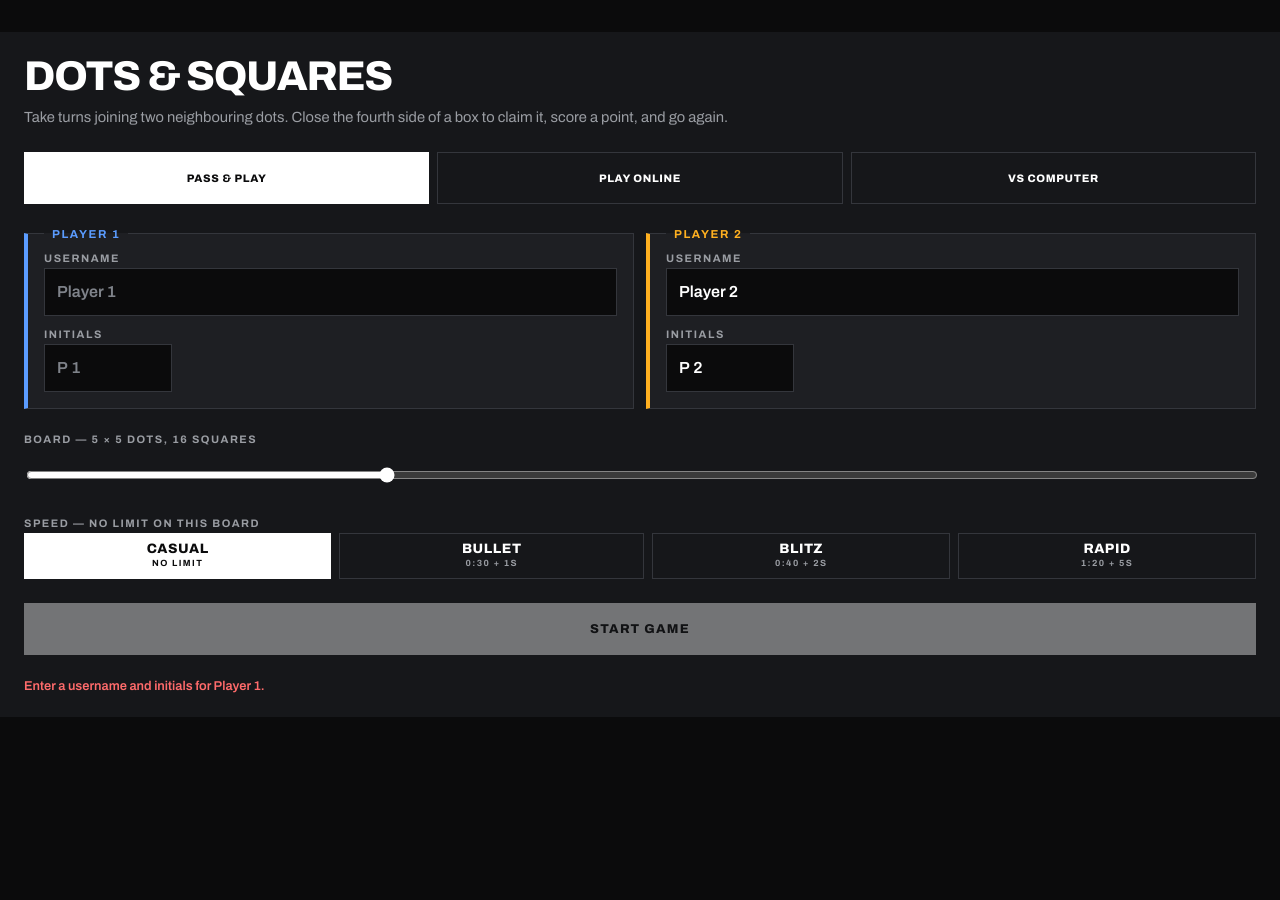
Test: BUG-003 — two players, one set of initials › still allows matching initials against the computer, who shares no screen
Click the button "vs Computer".
click(1053, 178)  # box top-left (851, 152), bottom-right (1256, 204)
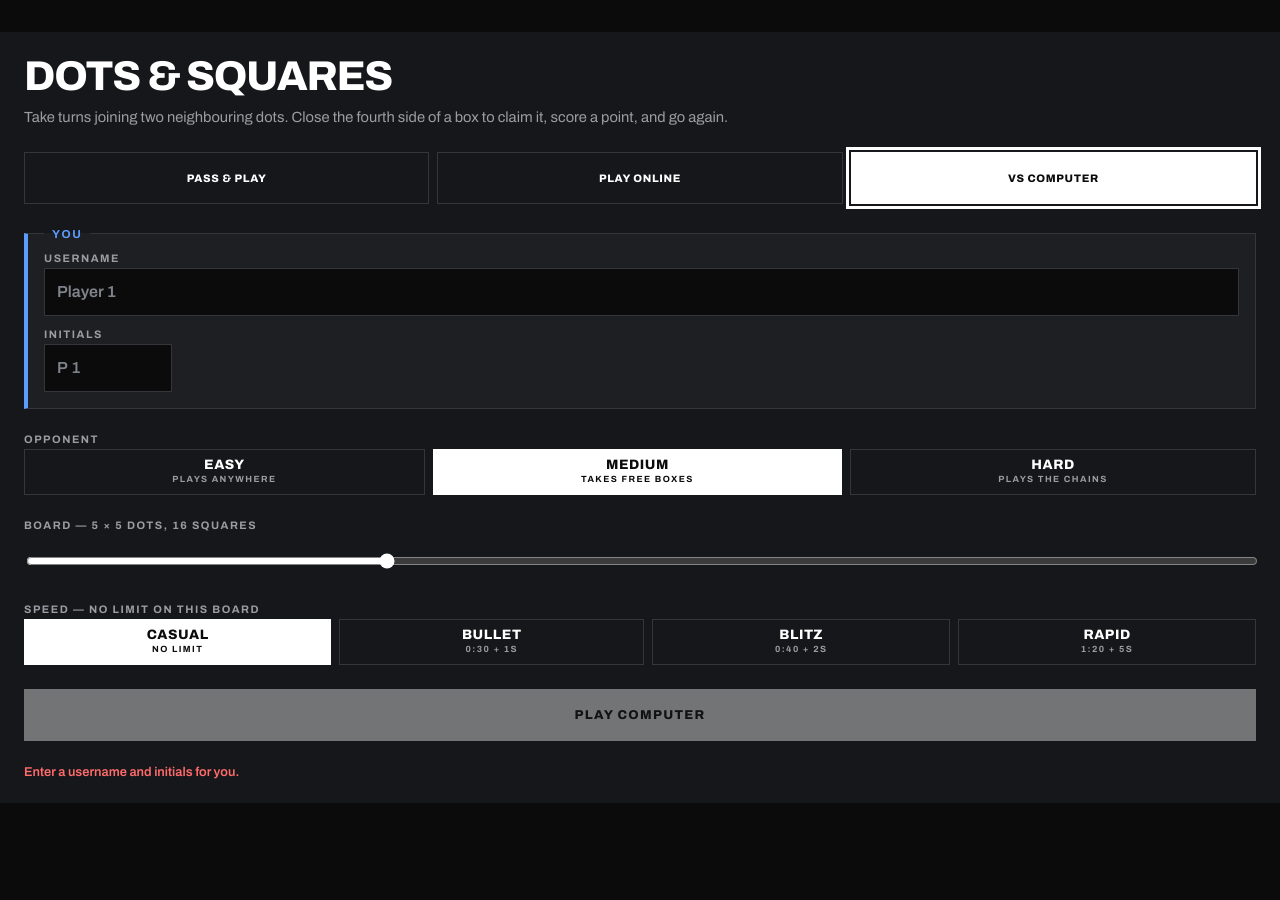
Type "Firas" into the field labelled "Username".
click(642, 292); type("Firas")  # box top-left (44, 268), bottom-right (1239, 316)
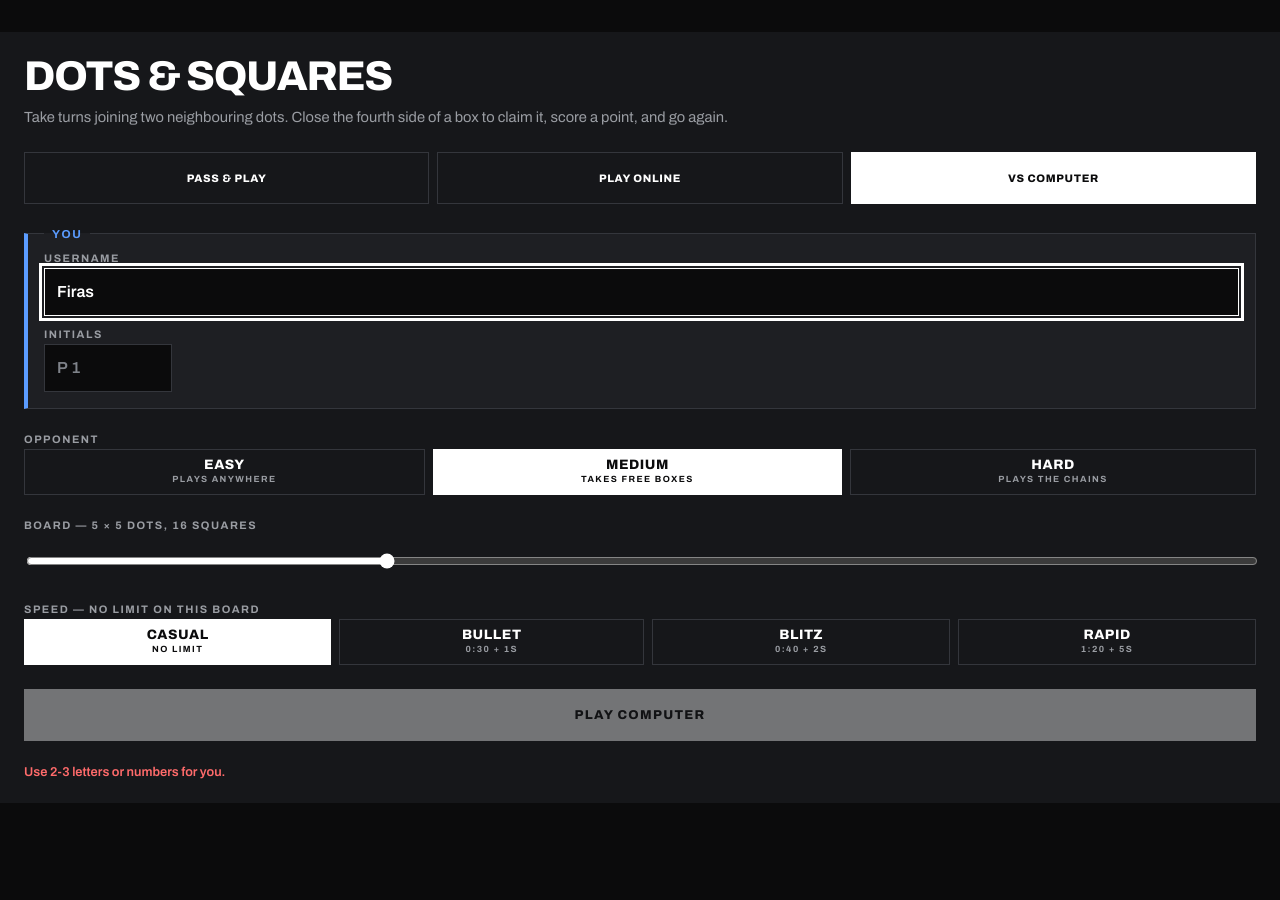
Type "CPU" into the field labelled "Initials".
click(108, 368); type("CPU")  # box top-left (44, 344), bottom-right (172, 392)
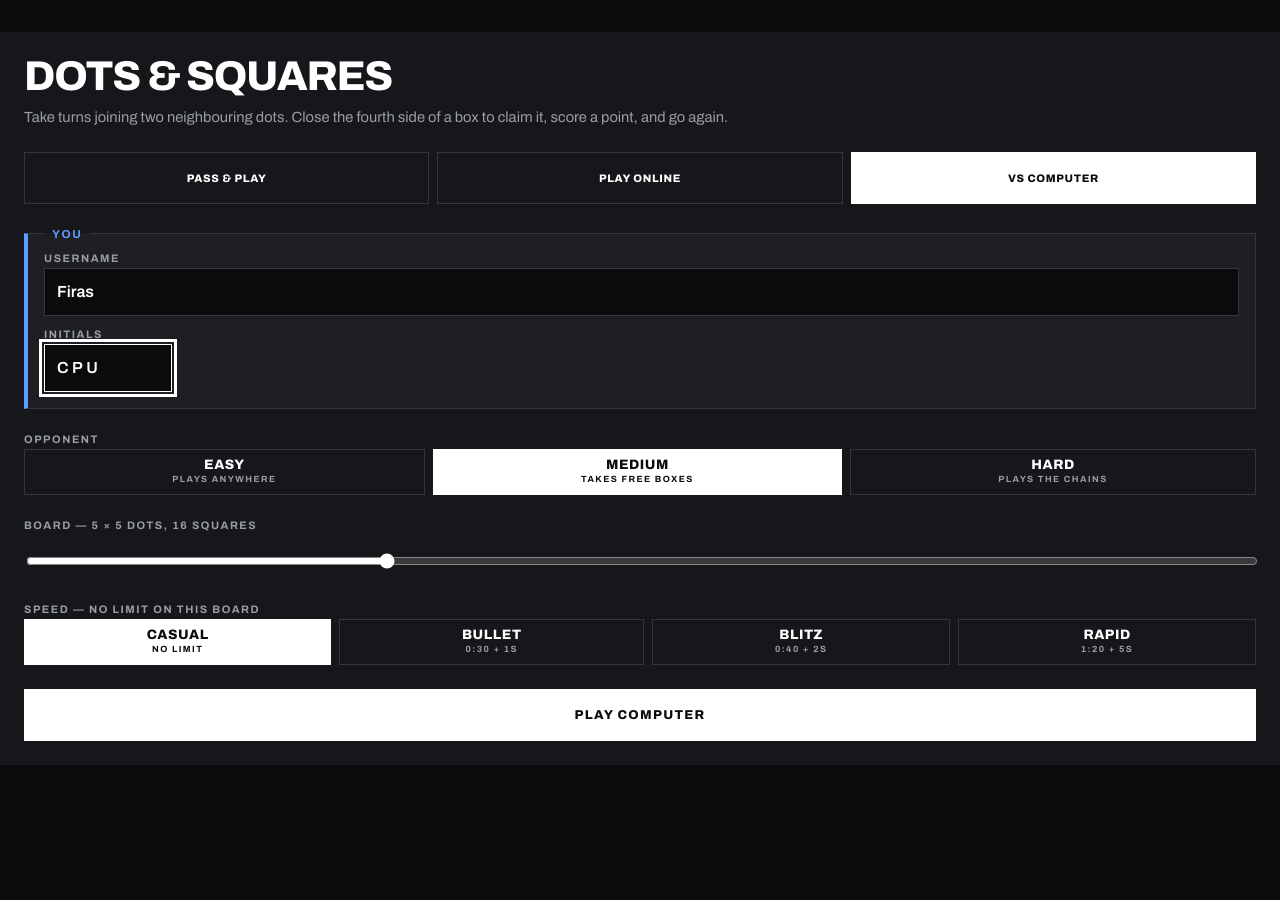
Check: the button "Play Computer" is enabled, box top-left (24, 689), bottom-right (1256, 741)
